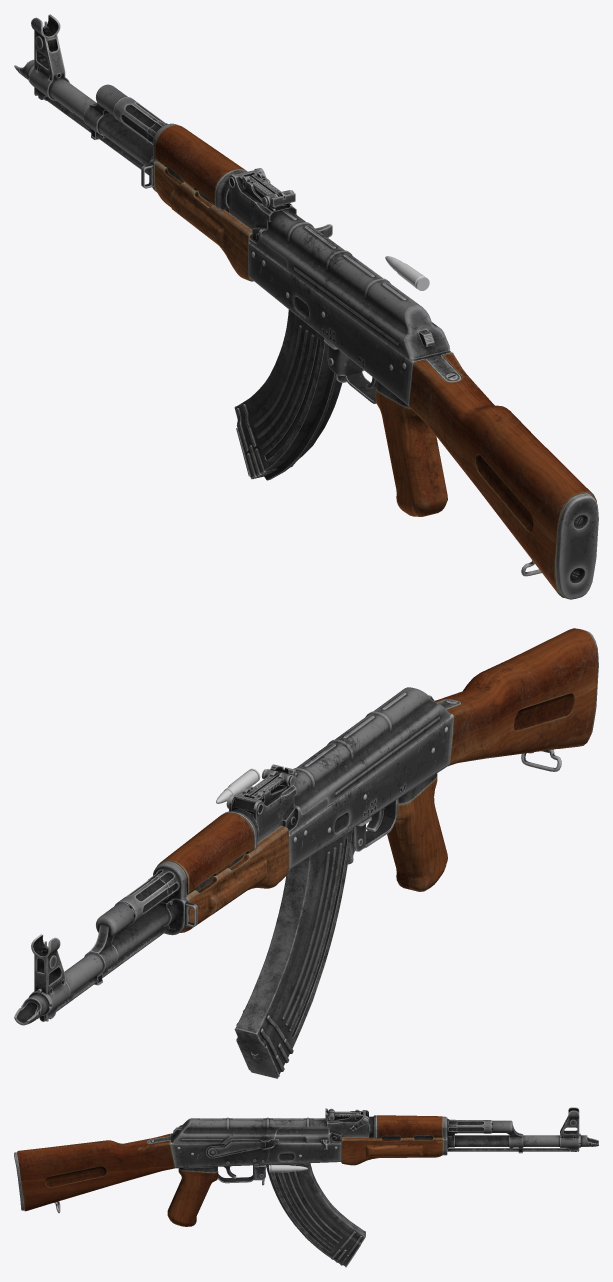
The model's file is akm_sketchfab.obj.
3 renders of one model, top to bottom at view 1: azimuth 30°, elevation 25°; view 2: azimuth 150°, elevation 25°; view 3: azimuth 270°, elevation 25°, orthographic. The views are drawn at different scales.
Parts seen in each view (by area): view 1: AKM01, Magazine; view 2: AKM01, Magazine, Bullet; view 3: AKM01, Magazine, AKM02, Bullet.
Part boxes in pixels (bbox=[...]): AKM01: bbox=[14, 14, 598, 599]; Magazine: bbox=[234, 309, 342, 480]; AKM01: bbox=[14, 628, 598, 1025]; Magazine: bbox=[234, 829, 352, 1078]; Bullet: bbox=[216, 768, 260, 803]; AKM01: bbox=[14, 1107, 598, 1226]; Magazine: bbox=[265, 1163, 365, 1267]; AKM02: bbox=[275, 1127, 329, 1149]; Bullet: bbox=[269, 1164, 307, 1172].
Size of the model in its own units: 0.6027 by 1.46 by 4.96.
